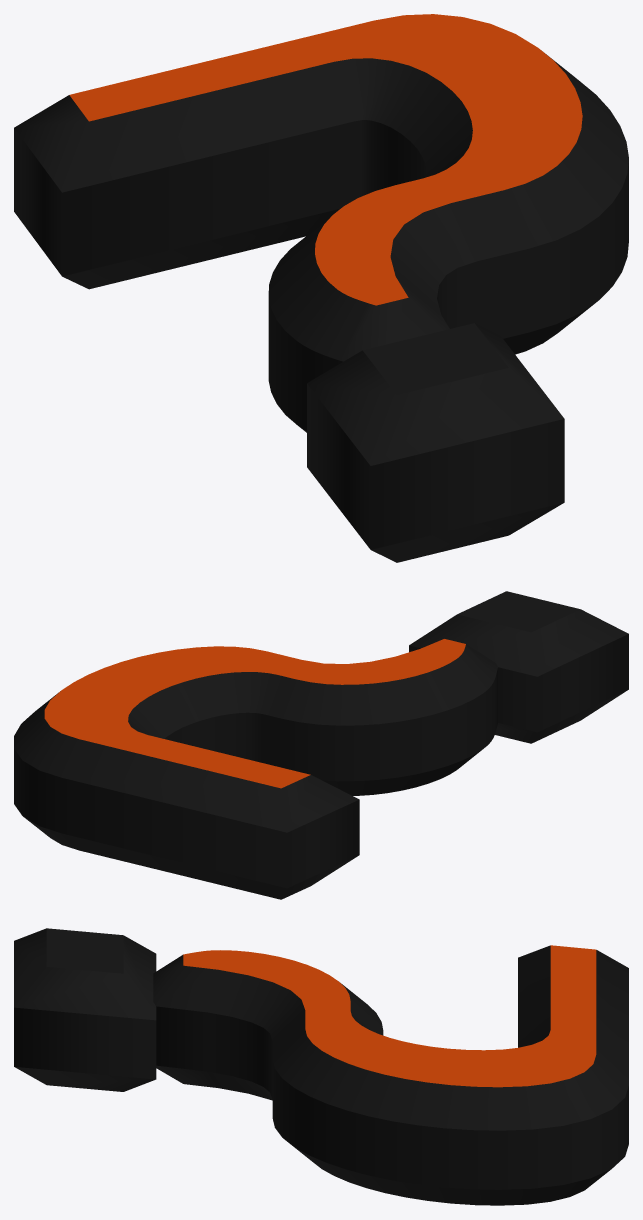
File: PointInterrogation.fbx
3 renders of one model, top to bottom at view 1: azimuth 30°, elevation 25°; view 2: azimuth 150°, elevation 25°; view 3: azimuth 270°, elevation 25°, orthographic. The views are drawn at different scales.
Visible parts, largest first — view 1: Text; view 2: Text; view 3: Text.
Boxes of the visible parts, x1=… form: Text: x1=14, y1=14, x2=628, y2=562; Text: x1=14, y1=591, x2=628, y2=899; Text: x1=14, y1=928, x2=628, y2=1205.
Bounding box in the file's own units: 0.5503 × 0.16 × 0.7533.
